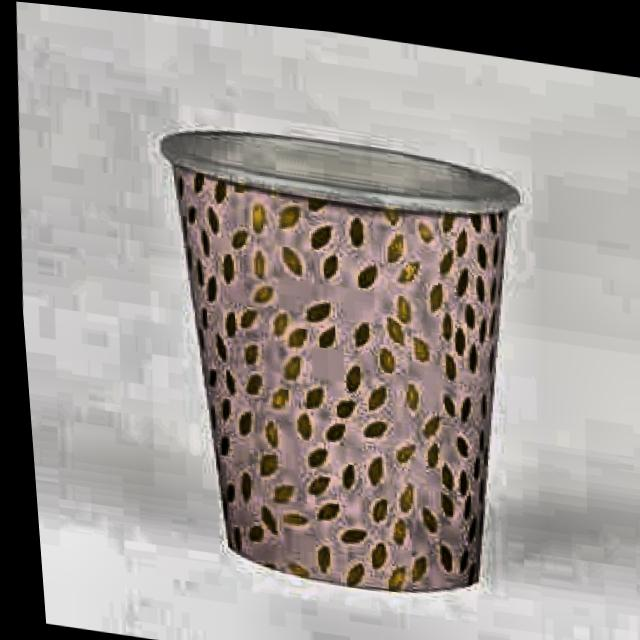Cup: (123, 93, 556, 622)
